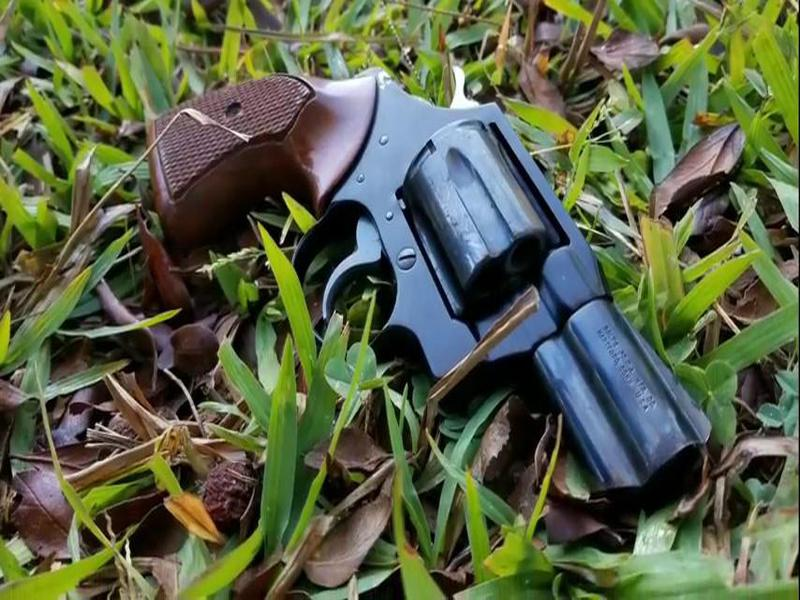Revolver: (136, 52, 754, 554)
